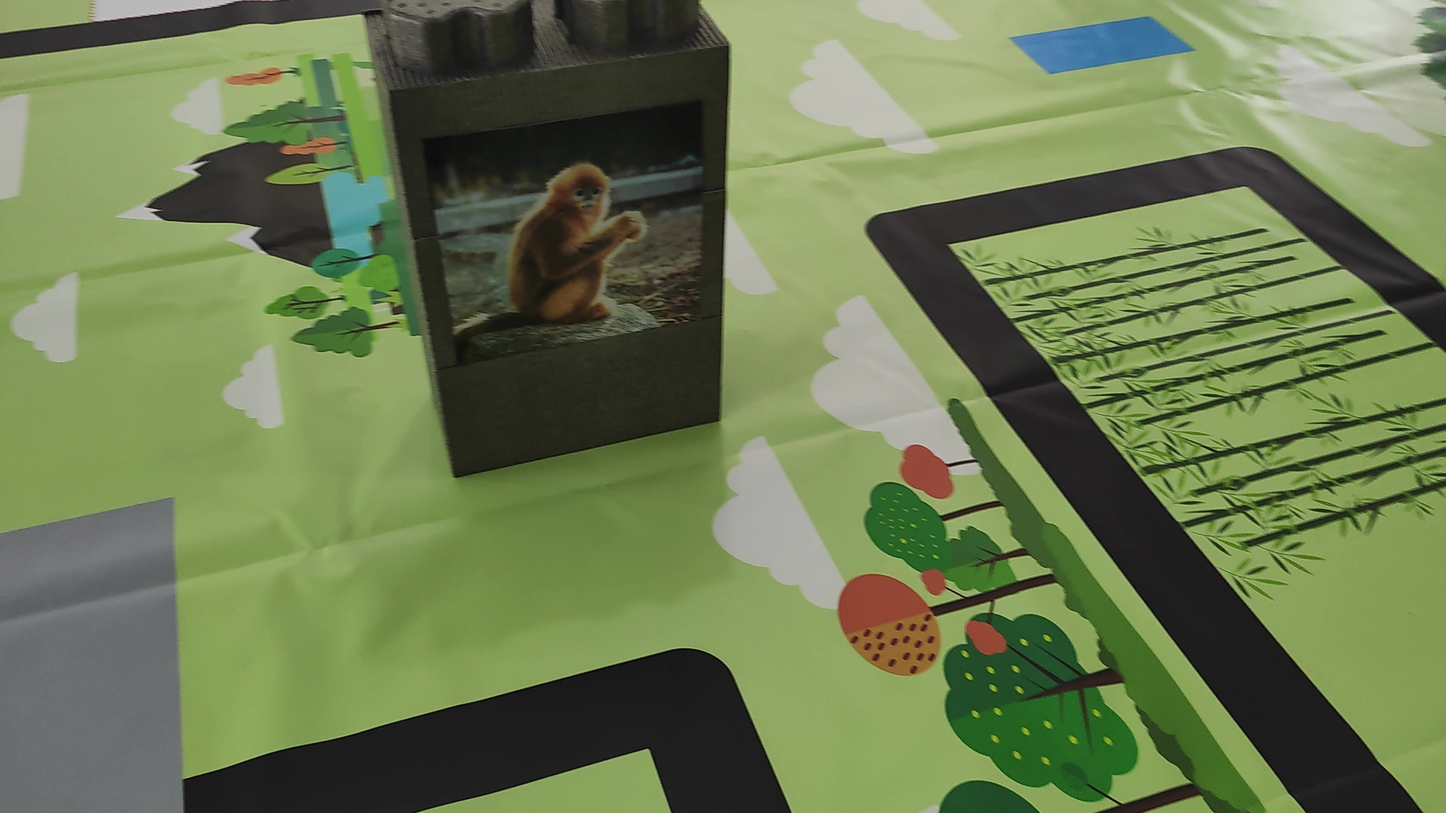monkey: (436, 146, 671, 361)
